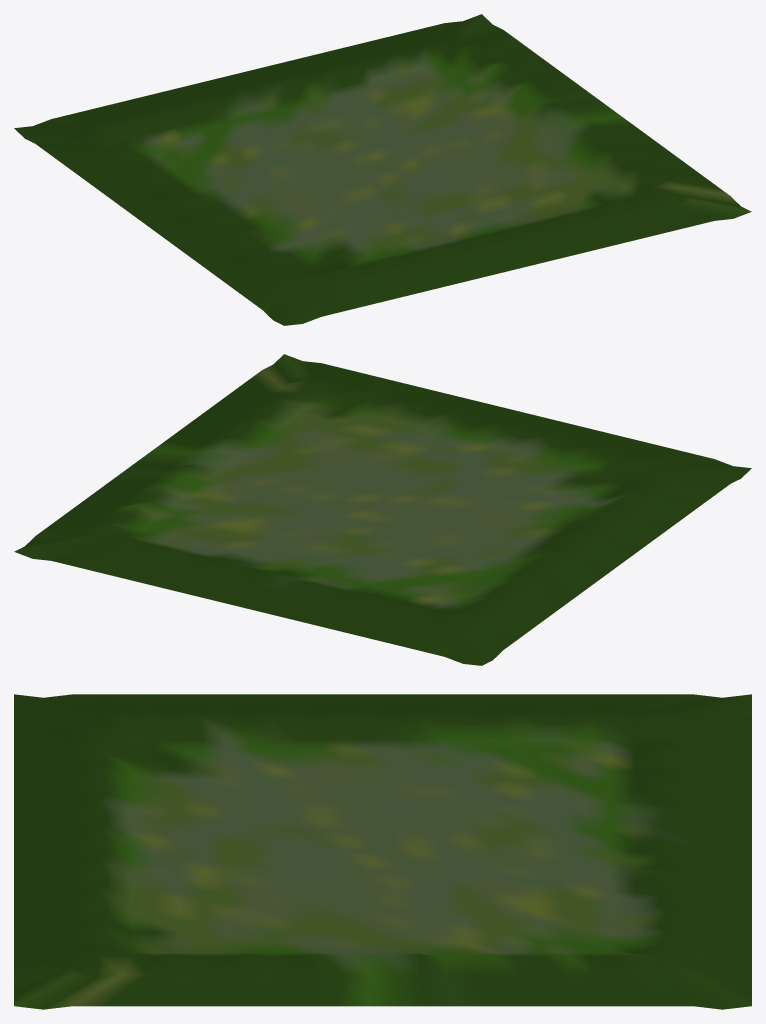
Rendered from SM_Terrain_Plains_Extra.fbx.
3 renders of one model, top to bottom at view 1: azimuth 30°, elevation 25°; view 2: azimuth 150°, elevation 25°; view 3: azimuth 270°, elevation 25°, orthographic. The views are drawn at different scales.
Visible parts, largest first — view 1: SM_Terrain_Plains; view 2: SM_Terrain_Plains; view 3: SM_Terrain_Plains.
Boxes of the visible parts, bbox=[...] form: SM_Terrain_Plains: bbox=[14, 14, 751, 325]; SM_Terrain_Plains: bbox=[14, 354, 751, 665]; SM_Terrain_Plains: bbox=[14, 694, 751, 1009].
Bounding box in the file's own units: 47294 × 1316 × 47294.
